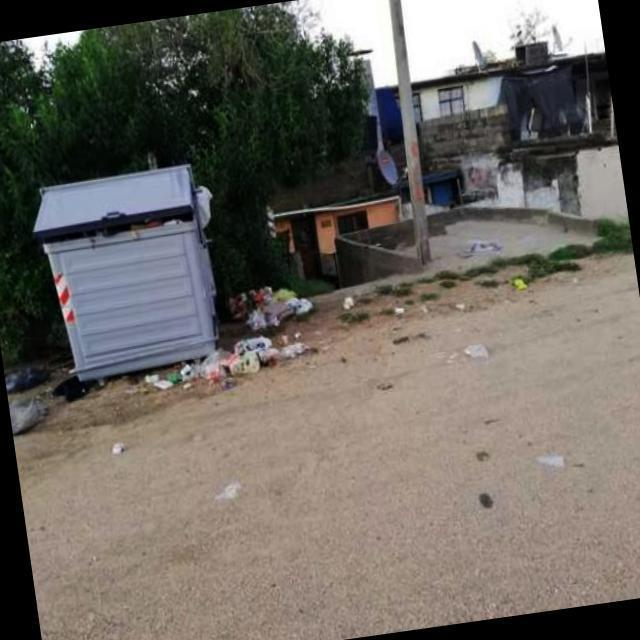garbage: (218, 264, 352, 376), (107, 344, 240, 408), (2, 354, 54, 439), (51, 362, 92, 412), (453, 330, 493, 374), (467, 224, 500, 264), (382, 295, 414, 327), (503, 273, 534, 294)
